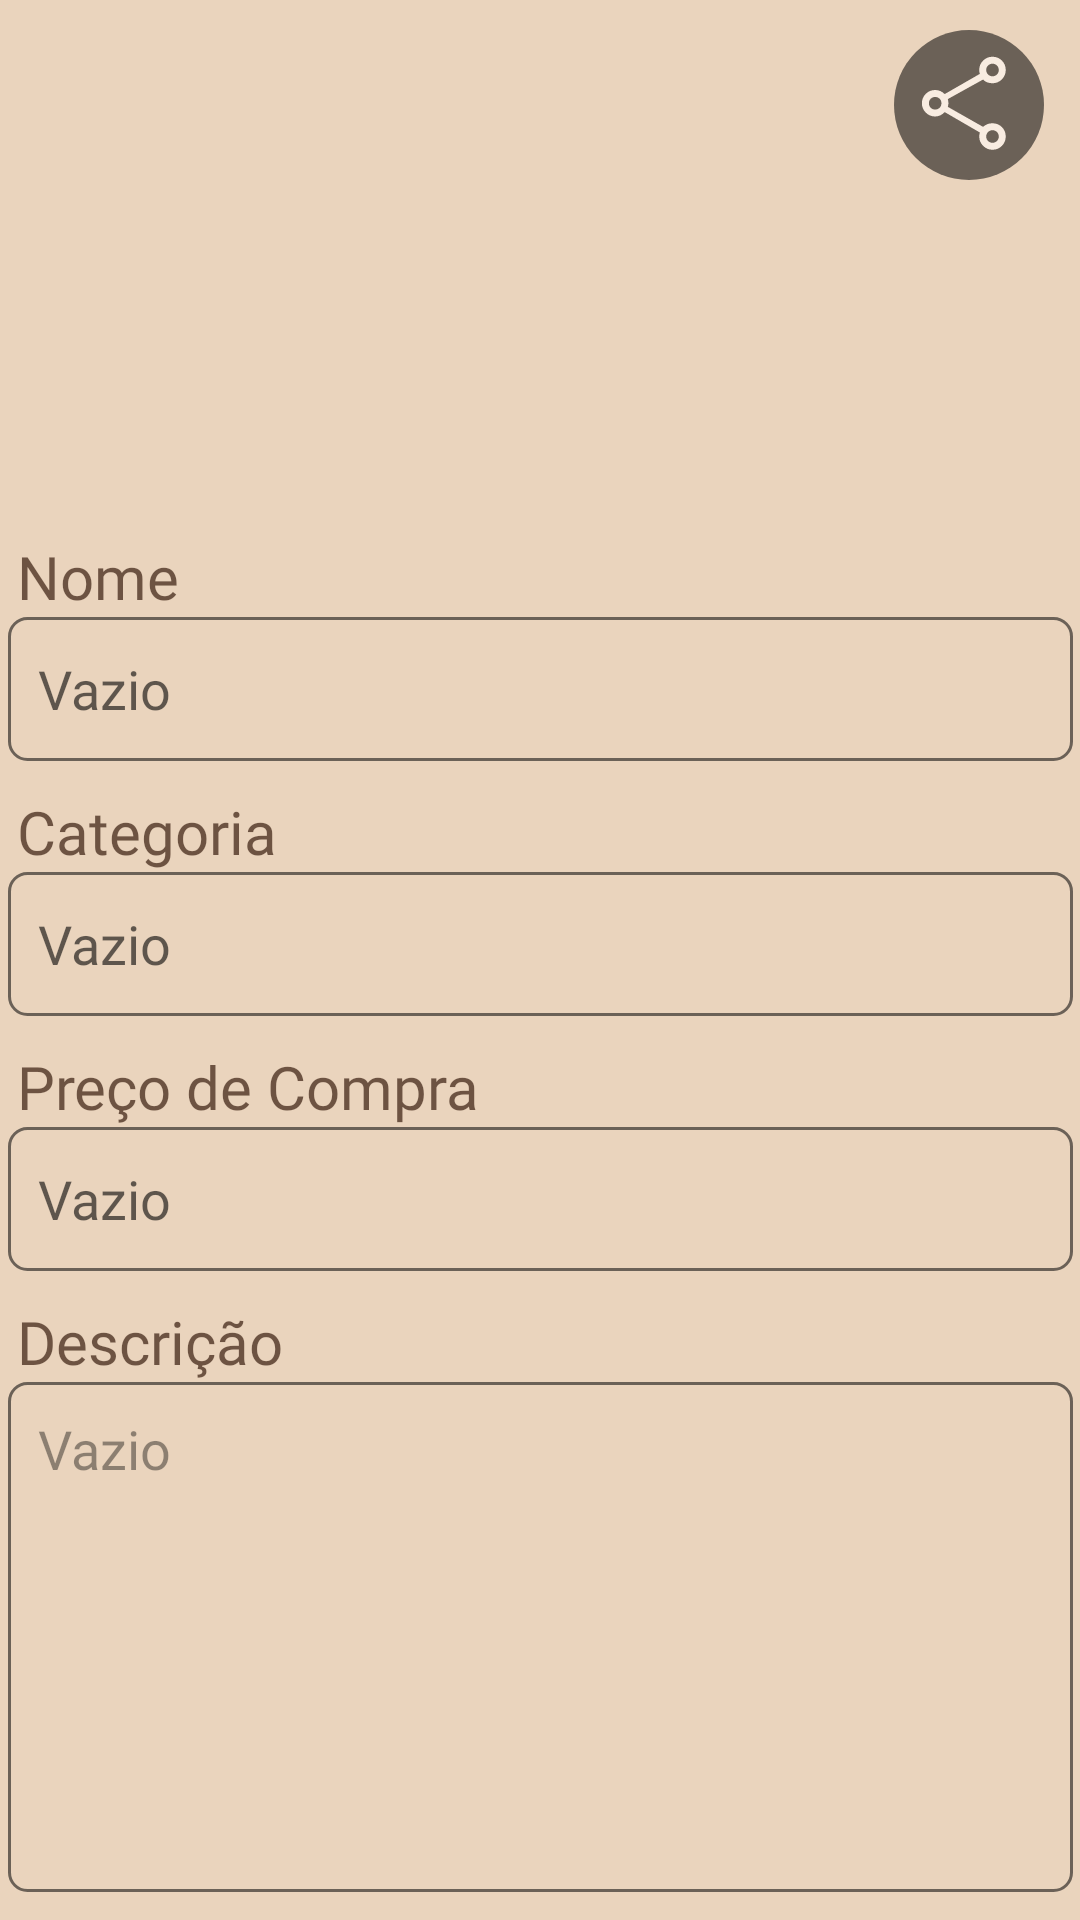

Screen size 1080px x 1920px. Icon name, then its box in pixels as (x1, y1, x2, y2):
share image: (894, 30, 1044, 180)
